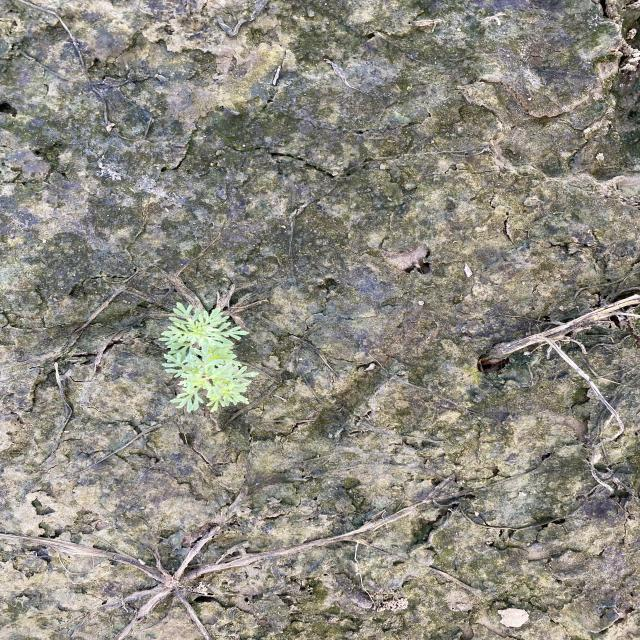Ragweed: (157, 300, 263, 416)
